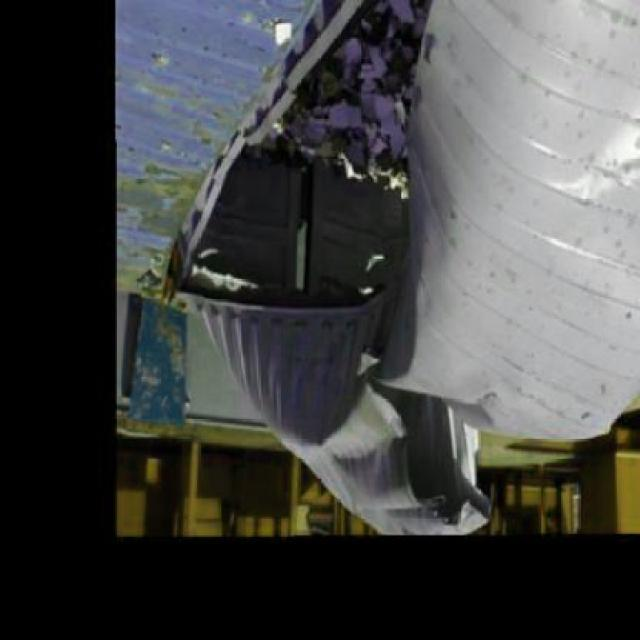hole: (181, 9, 467, 317)
